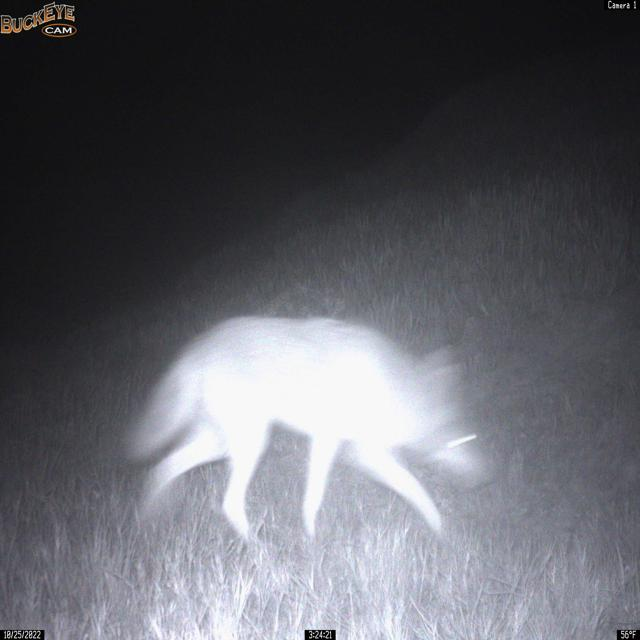coyote: (122, 313, 496, 554)
